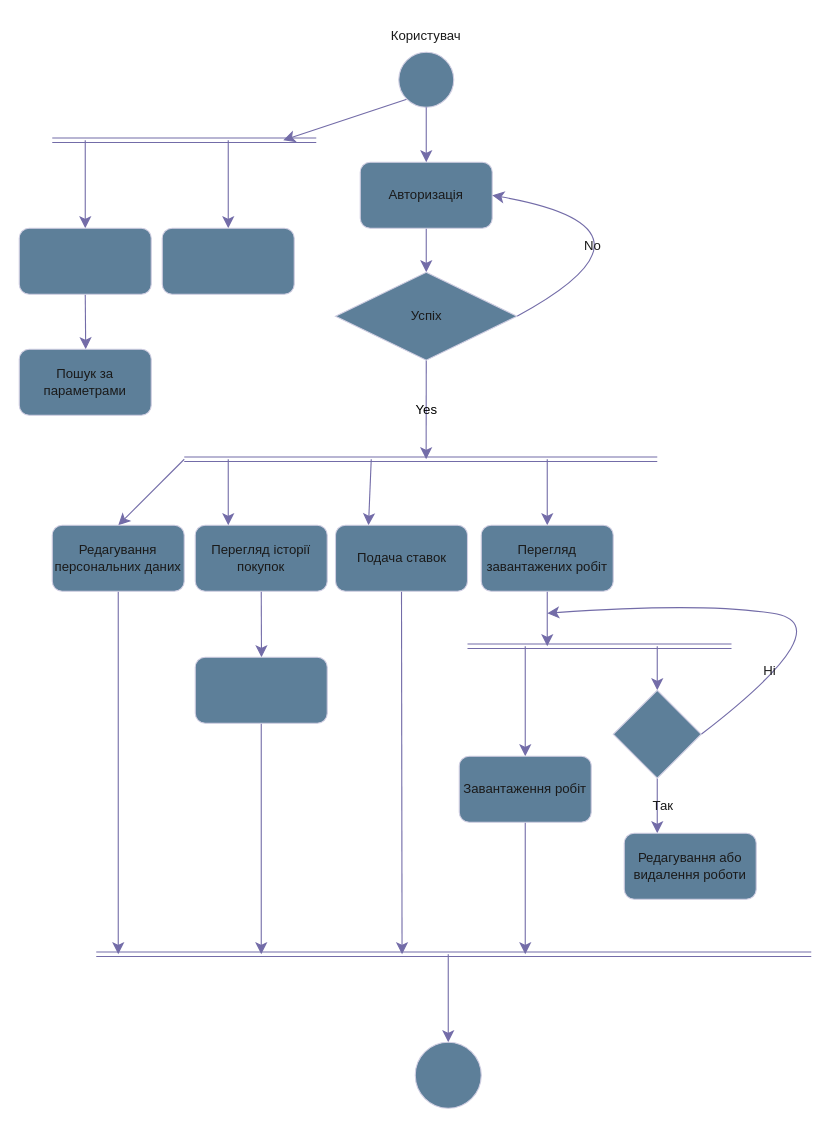
Image size: 831x1128. Some labels were removed from this diagram. Each missing label, with the box of its shape:
Знайдено: (612, 689, 701, 778)
Оплата виграного лота: (194, 656, 327, 723)
Перегляд аукціону: (161, 227, 294, 294)
Перегляд виставок: (18, 227, 151, 294)
